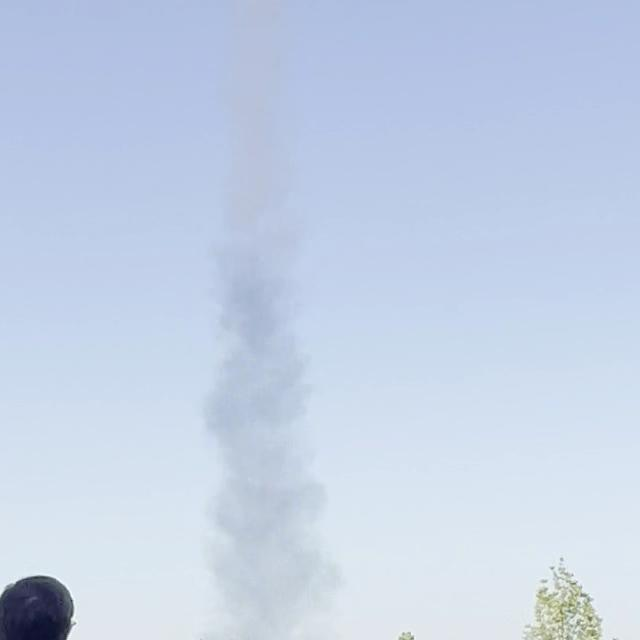smoke_trail_with_rocket: (207, 0, 327, 640)
